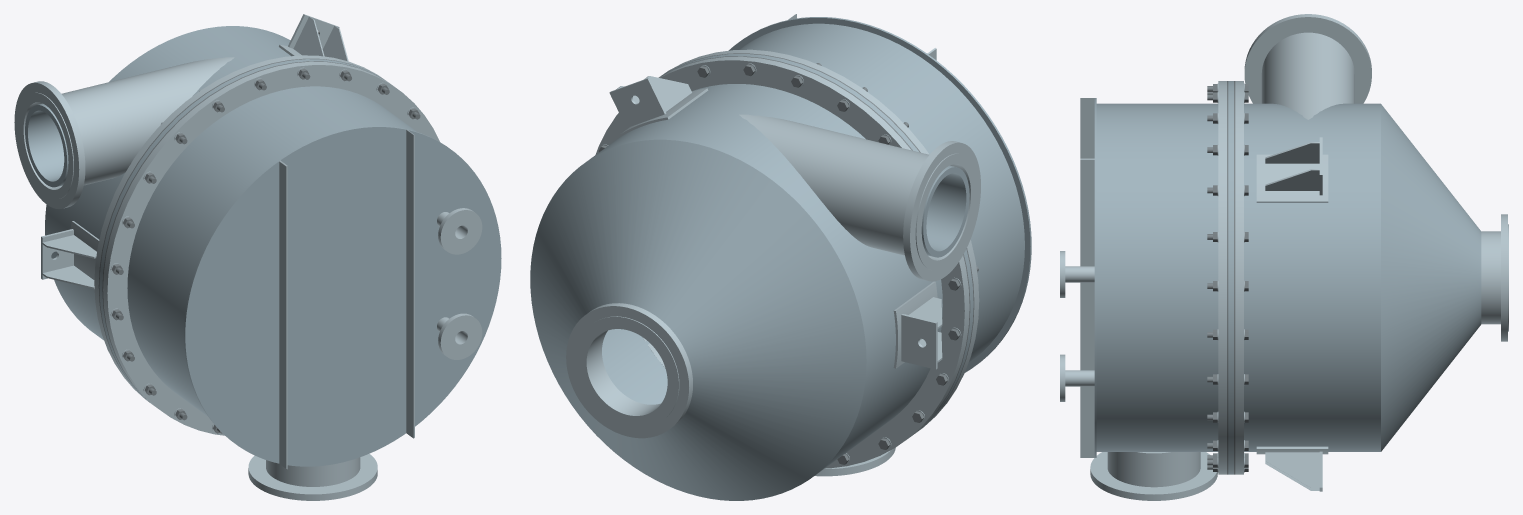
The picture shows the model from 3 angles, left to right: view 1: azimuth 30°, elevation 25°; view 2: azimuth 150°, elevation 25°; view 3: azimuth 270°, elevation 25°; orthographic projection. The views are drawn at different scales.
Visible parts, largest first — view 1: 顶盖_平盖OD1256_t8, 本体_上筒体ID1200_OD1216, 连接_上筒体法兰OD1375, 接口_a_进料接管, 本体_下筒体ID1200_OD1216, 接口_a_连接法兰, 顶盖_立筋-1, 顶盖_立筋1, 接口_a_瓷衬口, 接口_b_连接法兰, 连接_下筒体法兰OD1375, 接口_b_出料接管 (+13 smaller); view 2: 本体_锥斗, 本体_下筒体ID1200_OD1216, 本体_上筒体ID1200_OD1216, 连接_下筒体法兰OD1375, 接口_a_进料接管, 接口_c_连接法兰, 顶盖_平盖OD1256_t8, 接口_c_密封面, 接口_a_连接法兰, 接口_a_瓷衬口, 连接_上筒体法兰OD1375, 接口_a_密封面 (+11 smaller); view 3: 本体_下筒体ID1200_OD1216, 本体_上筒体ID1200_OD1216, 本体_锥斗, 接口_a_进料接管, 顶盖_立筋1, 接口_a_连接法兰, 连接_下筒体法兰OD1375, 连接_上筒体法兰OD1375, 接口_b_出料接管, 接口_b_连接法兰, 连接_PP筛板外露边缘t20, 托耳_R1_贴体补强板 (+12 smaller).
Part boxes in pixels (x1,y1,x2,y2): 顶盖_平盖OD1256_t8: [184, 126, 501, 466]; 本体_上筒体ID1200_OD1216: [127, 86, 416, 416]; 连接_上筒体法兰OD1375: [103, 61, 439, 435]; 接口_a_进料接管: [37, 57, 234, 187]; 本体_下筒体ID1200_OD1216: [45, 26, 290, 340]; 接口_a_连接法兰: [14, 81, 85, 208]; 顶盖_立筋-1: [279, 160, 287, 469]; 顶盖_立筋1: [406, 129, 414, 438]; 接口_a_瓷衬口: [25, 103, 68, 187]; 接口_b_连接法兰: [248, 453, 377, 500]; 连接_下筒体法兰OD1375: [94, 55, 380, 400]; 接口_b_出料接管: [266, 457, 360, 486]; 本体_锥斗: [530, 139, 866, 500]; 本体_下筒体ID1200_OD1216: [589, 84, 942, 472]; 本体_上筒体ID1200_OD1216: [739, 23, 1024, 362]; 连接_下筒体法兰OD1375: [595, 56, 969, 468]; 接口_a_进料接管: [739, 114, 956, 258]; 接口_c_连接法兰: [566, 303, 692, 438]; 顶盖_平盖OD1256_t8: [729, 17, 1031, 372]; 接口_c_密封面: [575, 316, 679, 428]; 接口_a_连接法兰: [903, 141, 980, 281]; 接口_a_瓷衬口: [921, 165, 969, 257]; 连接_上筒体法兰OD1375: [664, 49, 979, 429]; 接口_a_密封面: [915, 153, 976, 270]; 本体_下筒体ID1200_OD1216: [1244, 103, 1380, 451]; 本体_上筒体ID1200_OD1216: [1096, 103, 1218, 451]; 本体_锥斗: [1381, 104, 1481, 451]; 接口_a_进料接管: [1261, 32, 1354, 119]; 顶盖_立筋1: [1080, 158, 1094, 457]; 接口_a_连接法兰: [1244, 14, 1371, 103]; 连接_下筒体法兰OD1375: [1235, 81, 1243, 474]; 连接_上筒体法兰OD1375: [1218, 81, 1226, 474]; 接口_b_出料接管: [1107, 452, 1200, 487]; 接口_b_连接法兰: [1090, 452, 1217, 500]; 连接_PP筛板外露边缘t20: [1228, 81, 1233, 474]; 托耳_R1_贴体补强板: [1256, 154, 1328, 202].
Size of the model in its own units: 1.44 by 1.45 by 1.57.
